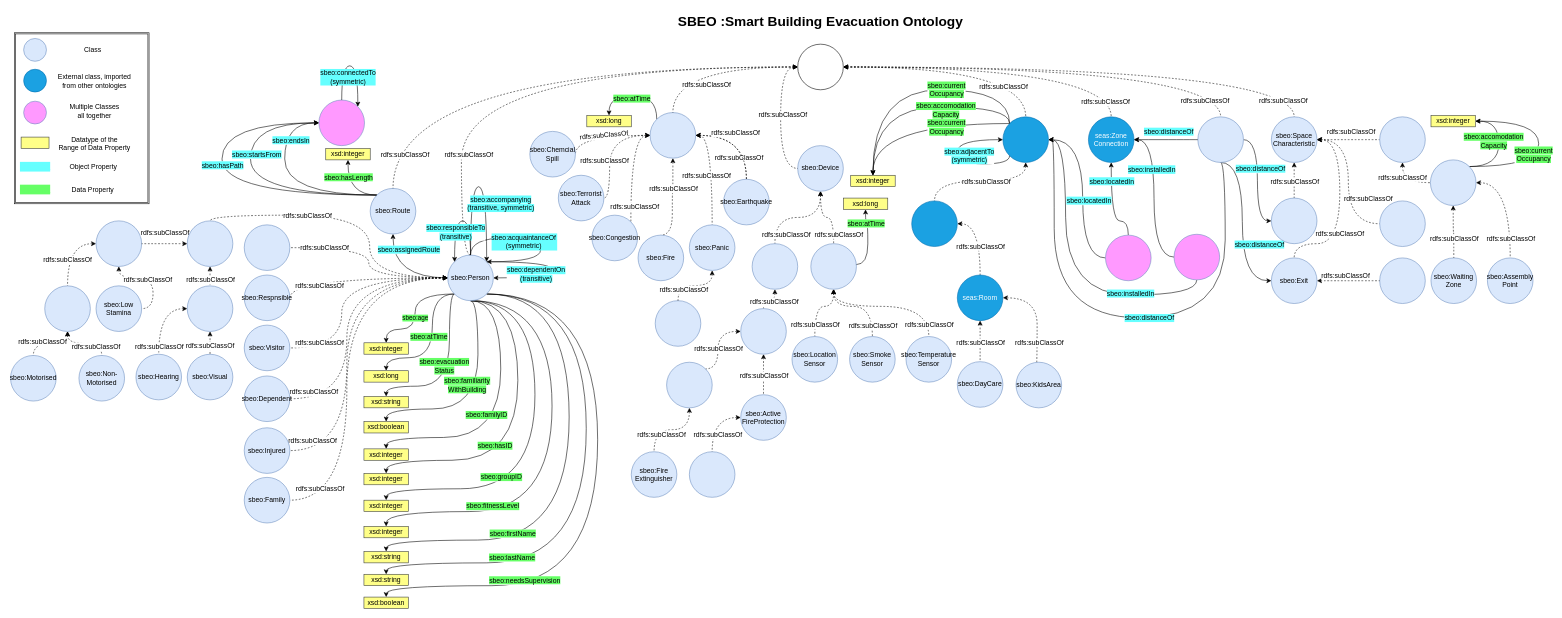
Some shapes in this 1562 by 618 pixel diagram are drawn without their labels. Here are the shapes that lost their labels. From the top down, the centre of each, then its label:
pixel 820 67: owl:Thing
pixel 341 122: sbeo:Exit sbeo:Route sbeo:Entrance seas:ZoneConnection seas:Zone
pixel 673 135: sbeo:Incident
pixel 1025 139: seas:Zone
pixel 1220 139: sbeo:Distance
pixel 1402 139: sbeo:Available
pixel 1453 182: sbeo:SafeZone
pixel 934 223: seas:Building Space
pixel 1294 221: sbeo:Entrance
pixel 1402 223: sbeo:UnAvailable
pixel 118 243: sbeo:Physical Impairment
pixel 210 243: sbeo:Impaired
pixel 267 247: sbeo:Normal
pixel 1128 258: sbeo:Exit sbeo:Entrance seas:ZoneConnection seas:Zone sbeo:Person sbeo:Incident
pixel 1196 257: sbeo:Device seas:ZoneConnection seas:Zone
pixel 775 266: sbeo:Incident Protection
pixel 833 266: sbeo:Sensor
pixel 1402 280: sbeo:Emergency Exit
pixel 67 308: sbeo:Wheel Chair
pixel 210 308: sbeo:Sensory Impairment
pixel 678 323: sbeo:Stempeding
pixel 763 331: sbeo:Fire Protection
pixel 689 385: sbeo:Passive FrieProtection
pixel 712 474: sbeo:FireDoor
